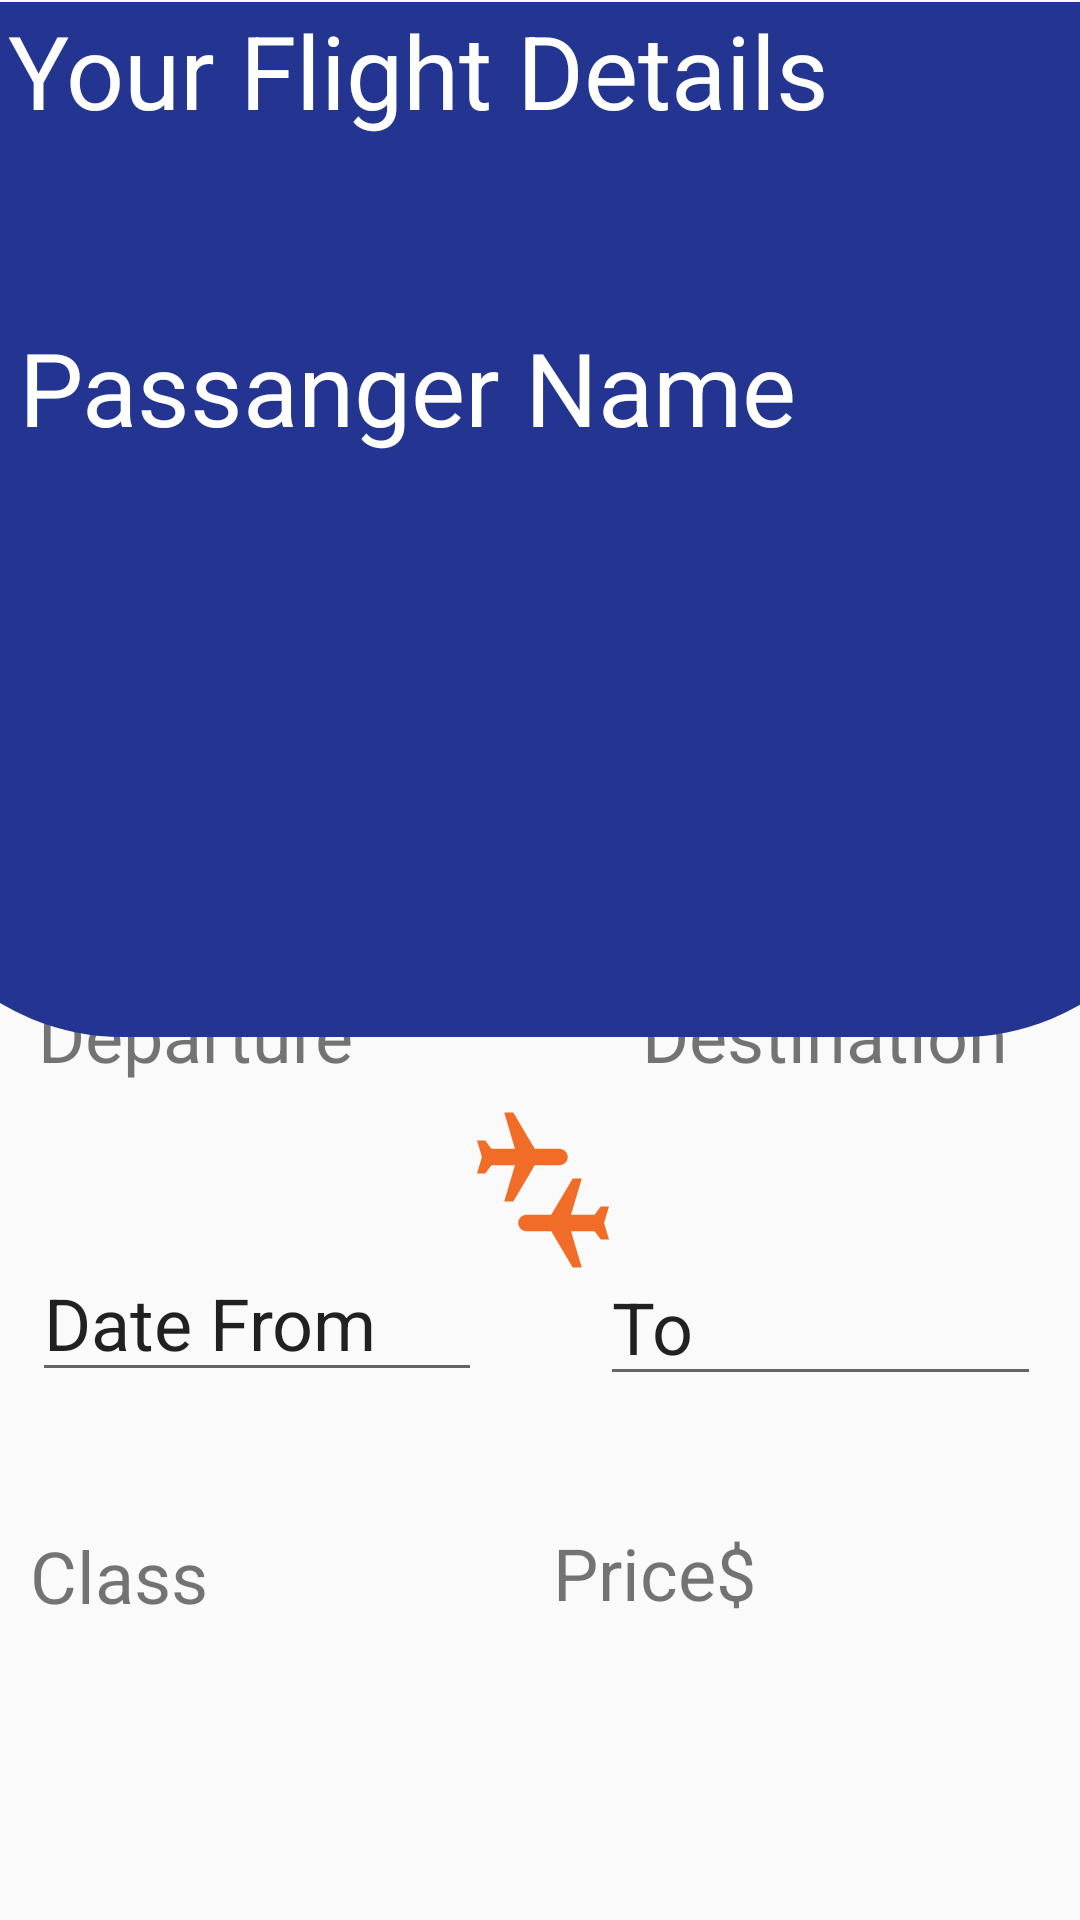

Icons on this 1080 x 1920 Android screen, each with the point to tap as (x,y):
connecting airports: (543,1190)
